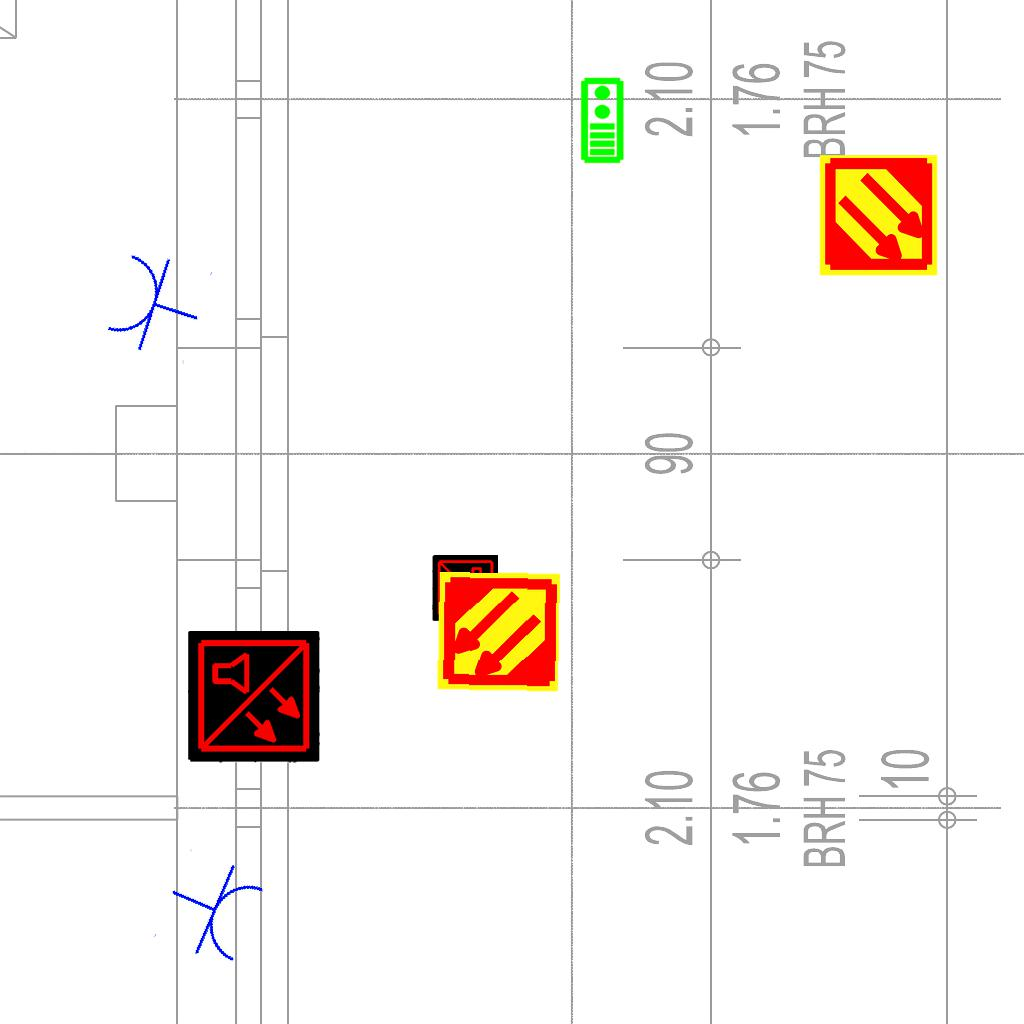ASR_Ansaugrauchmelder: (434, 567, 563, 696), (816, 153, 941, 278)
Gegensprechanlage_mit_Video: (578, 76, 625, 164)
OKW_Multisensormelder_(Kombination_optischer_Rauch-Kahlenmonoxid_Waerme-Melder): (188, 631, 320, 763), (432, 555, 498, 621)
Schukosteckdose_einfach: (152, 846, 272, 973), (100, 243, 214, 366)
